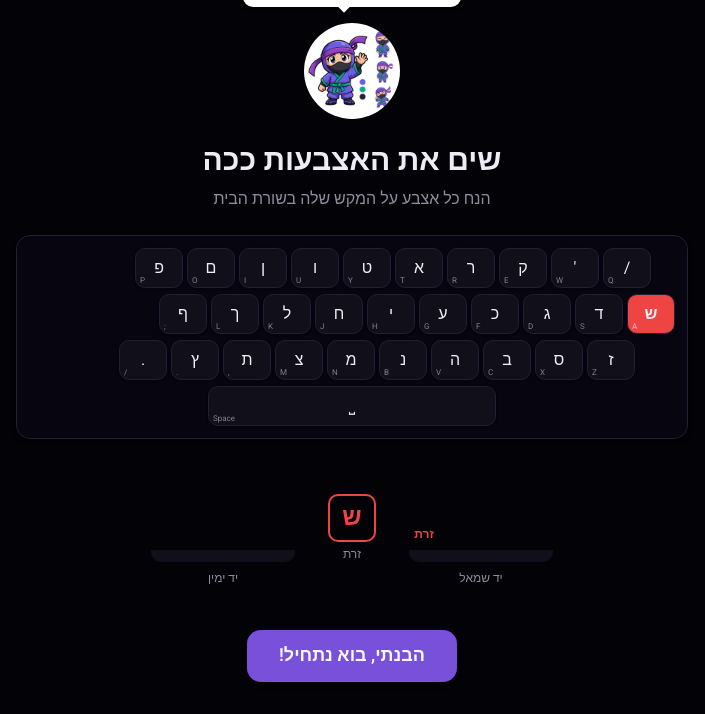
Test case: FirstLessonMagic › Step 2: Type שלום › advances to step 2 when Continue is clicked
(page scrolled)
Click the button "הבנתי, בוא נתחיל!".
click(352, 656)  # box [247,630,457,682]
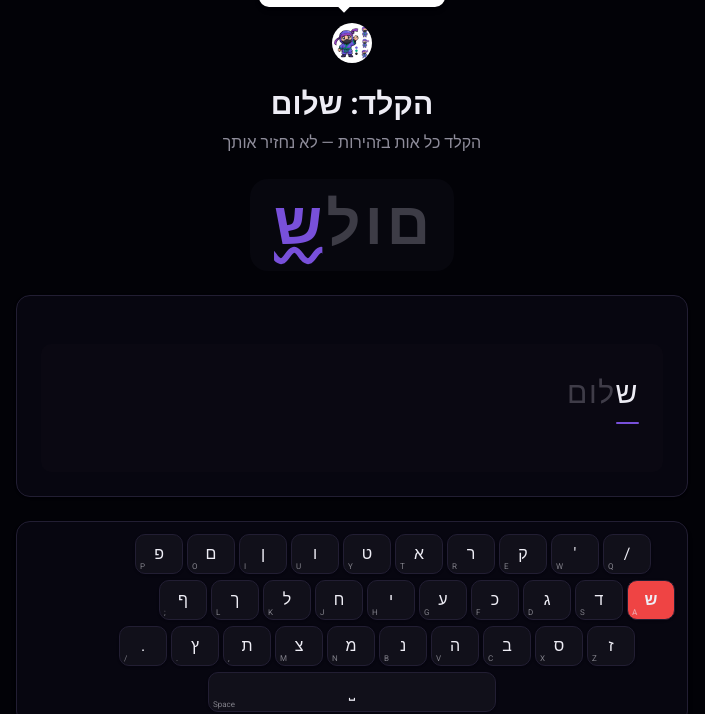
Check: the heading "הקלד: שלום" is shown, box [271,83,433,127]
